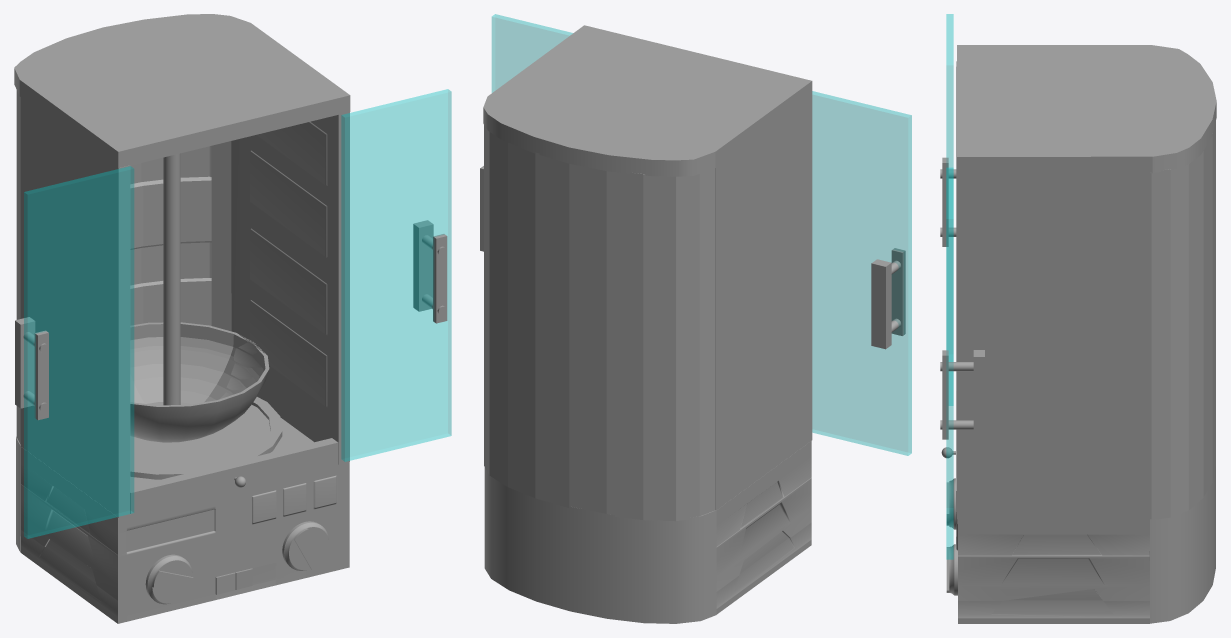
File: shawarmatanur.fbx
3 renders of one model, left to right at view 1: azimuth 30°, elevation 25°; view 2: azimuth 150°, elevation 25°; view 3: azimuth 270°, elevation 25°, orthographic.
Parts seen in each view (by area): view 1: door_glass1, door_glass2, Inside_side, Roof, Inside_side1, Panel_keys, inside_wall_deep, Pole, Drawer, pCylinder7, buttom_moves1, buttom_moves; view 2: inside_wall_deep, door_glass1, Inside_side, Roof, Back_panel, Panel_keys, door_glass2; view 3: Inside_side1, Roof, inside_wall_deep, Panel_keys, Back_panel, door_glass2, door_glass1, buttom_moves, buttom_moves1.
Boxes of the visible parts, bbox=[...] form: door_glass1: bbox=[15, 166, 133, 538]; door_glass2: bbox=[341, 89, 451, 461]; Inside_side: bbox=[20, 97, 130, 517]; Roof: bbox=[14, 14, 350, 168]; Inside_side1: bbox=[240, 112, 349, 464]; Panel_keys: bbox=[21, 447, 349, 623]; inside_wall_deep: bbox=[16, 90, 240, 444]; Pole: bbox=[130, 153, 269, 442]; Drawer: bbox=[130, 417, 338, 514]; pCylinder7: bbox=[130, 397, 282, 479]; buttom_moves1: bbox=[145, 554, 193, 604]; buttom_moves: bbox=[282, 521, 329, 570]; inside_wall_deep: bbox=[484, 125, 715, 521]; door_glass1: bbox=[812, 91, 911, 455]; Inside_side: bbox=[715, 97, 812, 510]; Roof: bbox=[483, 25, 812, 176]; Back_panel: bbox=[484, 467, 716, 623]; Panel_keys: bbox=[716, 441, 811, 614]; door_glass2: bbox=[480, 14, 572, 251]; Inside_side1: bbox=[957, 173, 1151, 519]; Roof: bbox=[957, 45, 1216, 173]; inside_wall_deep: bbox=[1150, 121, 1215, 520]; Panel_keys: bbox=[956, 512, 1149, 623]; Back_panel: bbox=[1150, 466, 1215, 623]; door_glass2: bbox=[940, 168, 984, 559]; door_glass1: bbox=[940, 14, 956, 405]; buttom_moves: bbox=[946, 544, 957, 595]; buttom_moves1: bbox=[946, 478, 956, 529].
Size of the model in its own units: 7.41 by 7.89 by 4.23.
